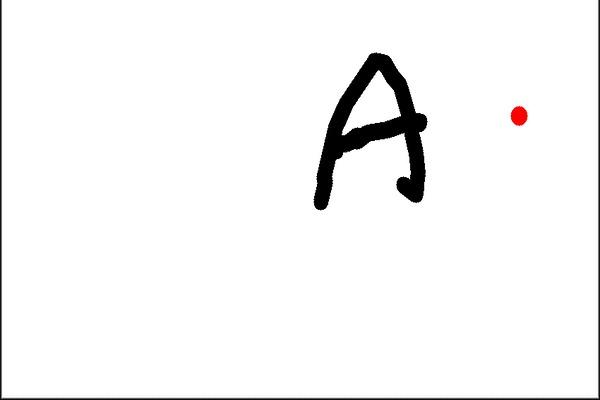A: (303, 48, 445, 210)
